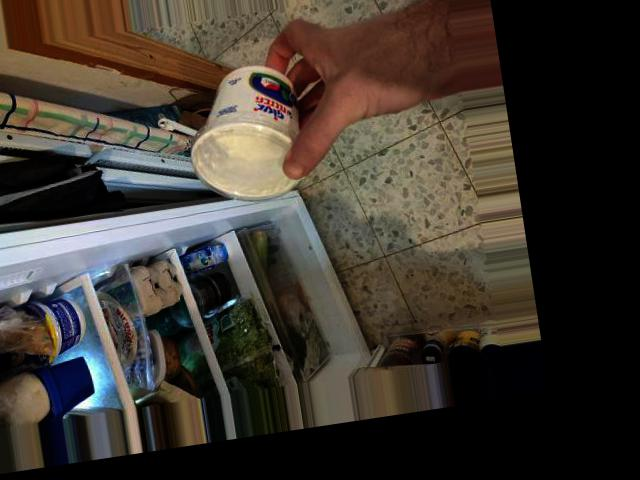cotage: (173, 74, 306, 193)
